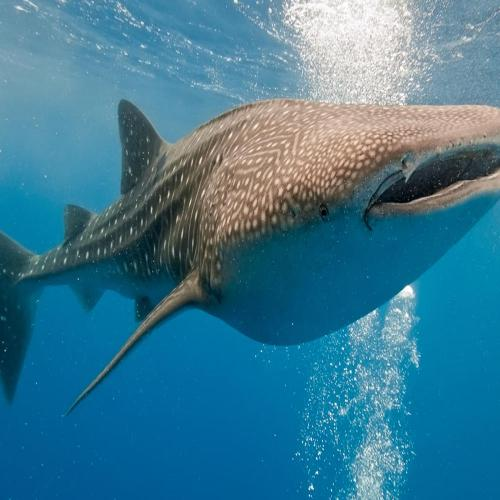shark-endangered: (0, 96, 500, 419)
